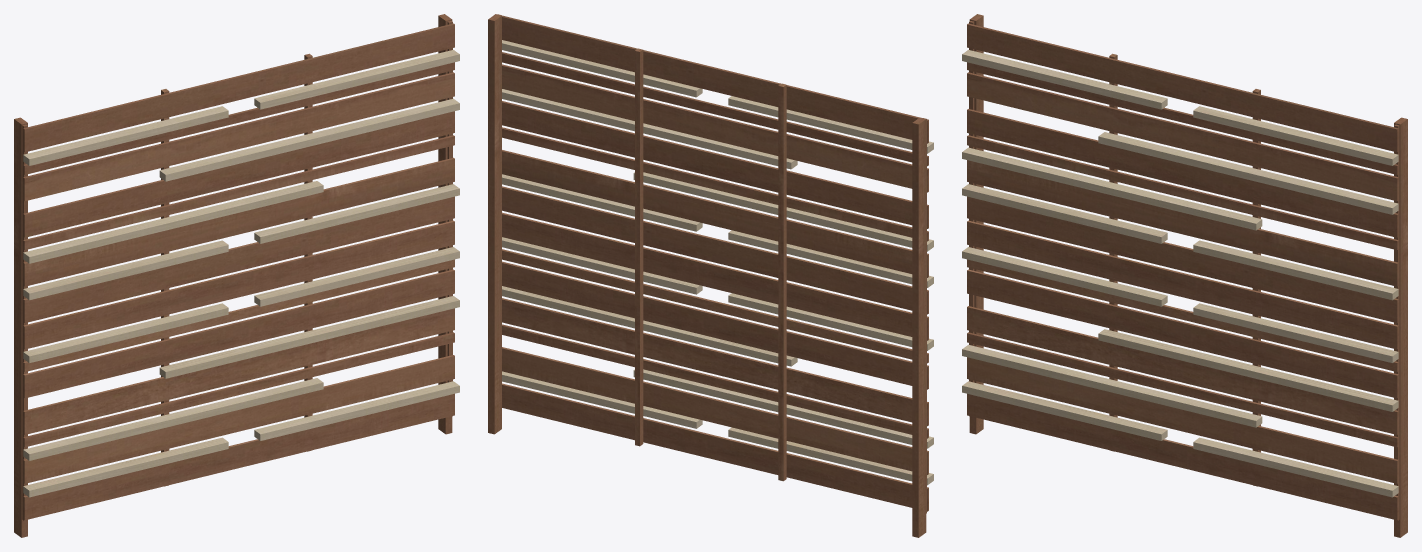
Rendered from EAdesignunitrandom_h1835-w1999_jara.fbx.
3 views of the same model, side by side, from view 1: azimuth 30°, elevation 25°; view 2: azimuth 150°, elevation 25°; view 3: azimuth 330°, elevation 25° (orthographic).
Visible parts, largest first — view 1: EAdesignunitrandom_h1835-w1999_jara; view 2: EAdesignunitrandom_h1835-w1999_jara; view 3: EAdesignunitrandom_h1835-w1999_jara.
Part boxes in pixels (box(x1,y1,x2,y2)): EAdesignunitrandom_h1835-w1999_jara: box(14, 14, 459, 537); EAdesignunitrandom_h1835-w1999_jara: box(488, 14, 933, 537); EAdesignunitrandom_h1835-w1999_jara: box(962, 14, 1407, 537).
Bounding box in the file's own units: 200 × 183 × 12.2.
Materials: 2 (2 with a texture image).
